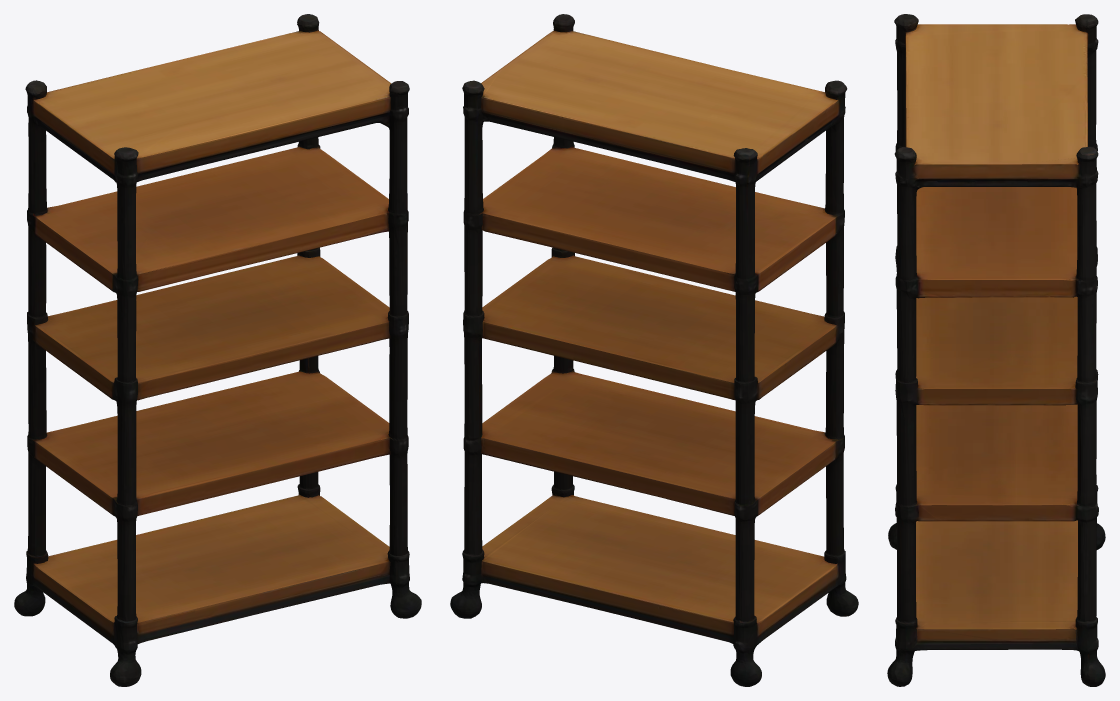
The picture shows the model from 3 angles, left to right: view 1: azimuth 30°, elevation 25°; view 2: azimuth 150°, elevation 25°; view 3: azimuth 270°, elevation 25°; orthographic projection.
Parts seen in each view (by area): view 1: geometry_0; view 2: geometry_0; view 3: geometry_0.
Boxes of the visible parts, x1,y1,x2,y2 form: geometry_0: [14, 14, 421, 686]; geometry_0: [450, 14, 858, 686]; geometry_0: [887, 14, 1105, 686].
Size of the model in its own units: 0.608 by 0.9998 by 0.371.
1 material, 1 textured.
